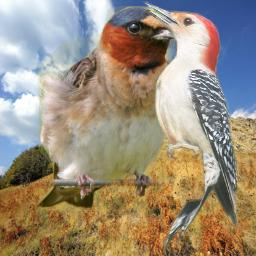Swallow: (35, 6, 185, 211)
Woodpecker: (138, 1, 238, 250)
